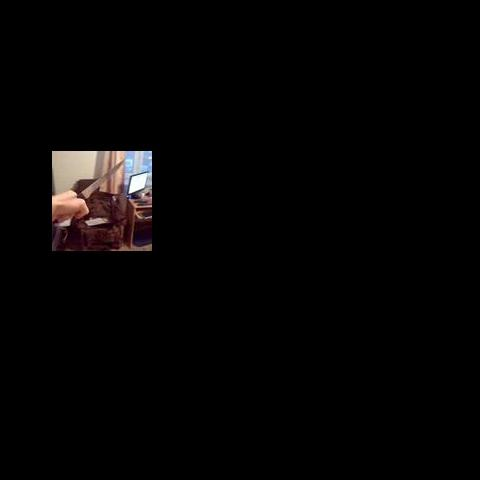knife: (52, 158, 126, 225)
